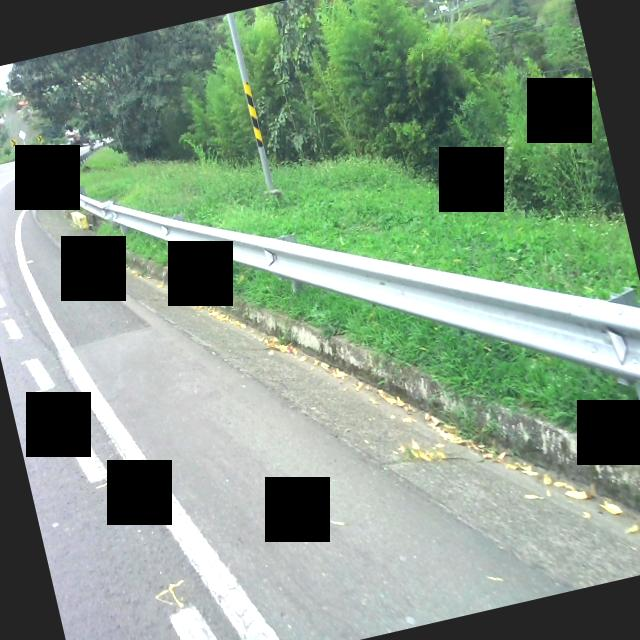DITCH: (22, 30, 640, 640)
